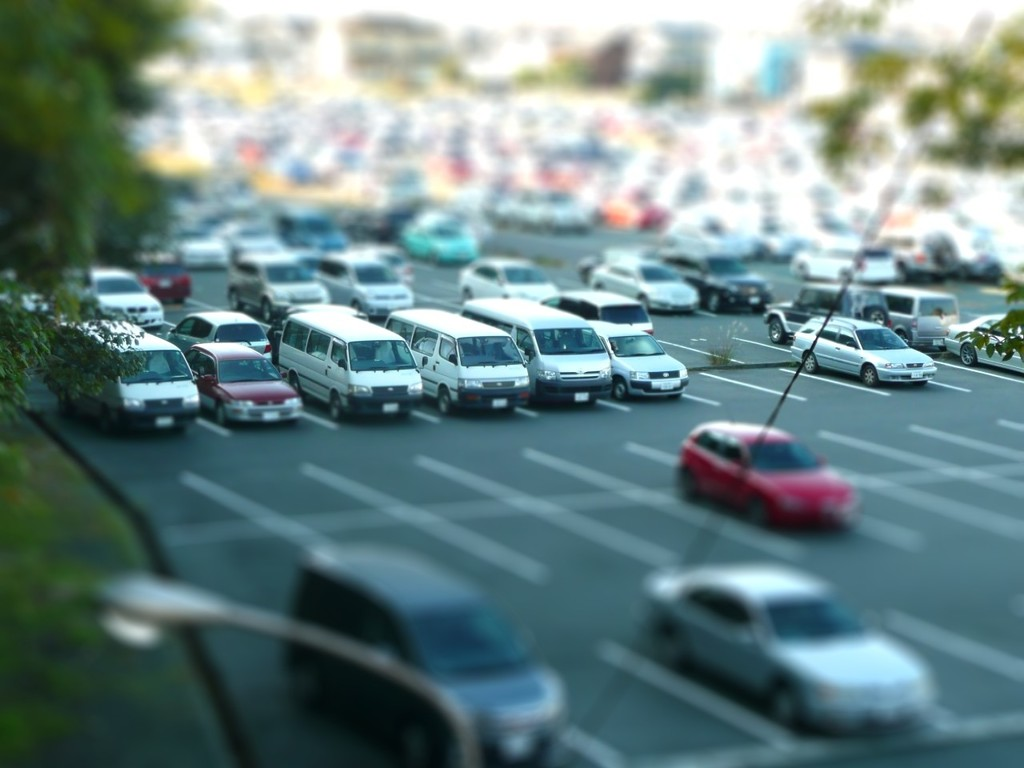Wheel: (765, 314, 786, 342), (675, 466, 691, 502), (610, 378, 629, 401), (435, 395, 455, 411), (803, 351, 818, 370), (865, 370, 877, 386)
